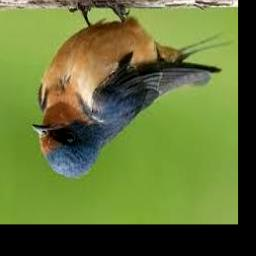Swallow: (32, 6, 231, 179)
